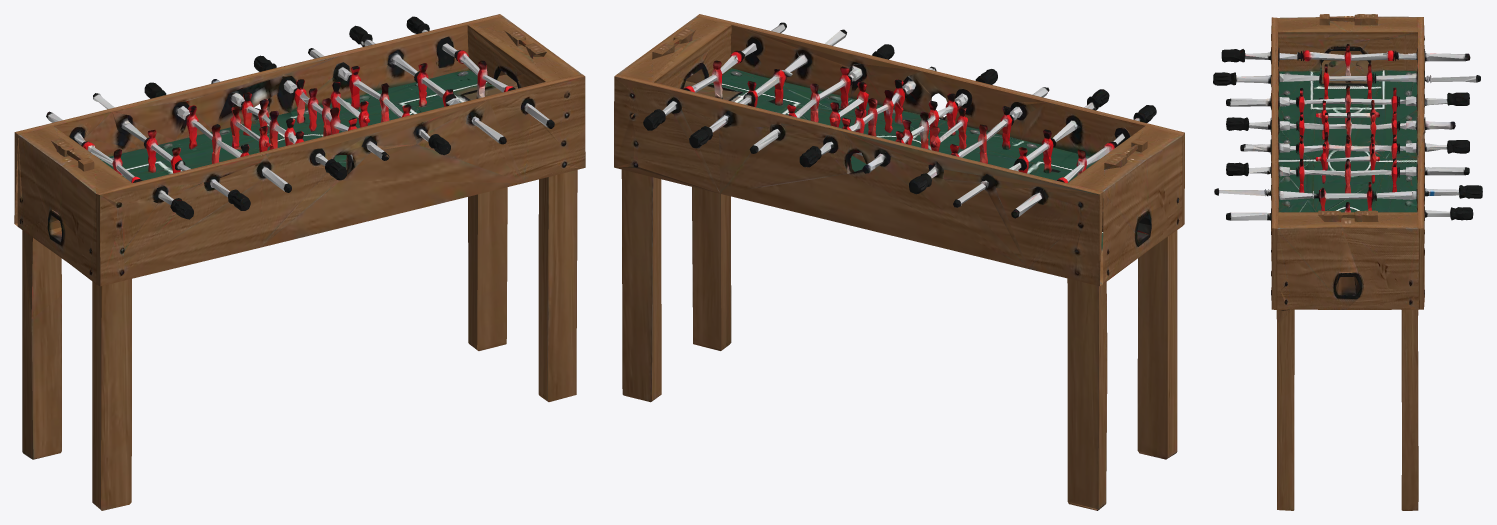
The model's file is foosball_table.glb.
The picture shows the model from 3 angles, left to right: view 1: azimuth 30°, elevation 25°; view 2: azimuth 150°, elevation 25°; view 3: azimuth 270°, elevation 25°; orthographic projection. The views are drawn at different scales.
Visible parts, largest first — view 1: 0; view 2: 0; view 3: 0.
Boxes of the visible parts, x1,y1,x2,y2 form: 0: [14, 14, 585, 510]; 0: [614, 14, 1184, 510]; 0: [1213, 14, 1482, 510].
Bounding box in the file's own units: 1.4 × 0.9 × 0.75.
1 material, 1 textured.
